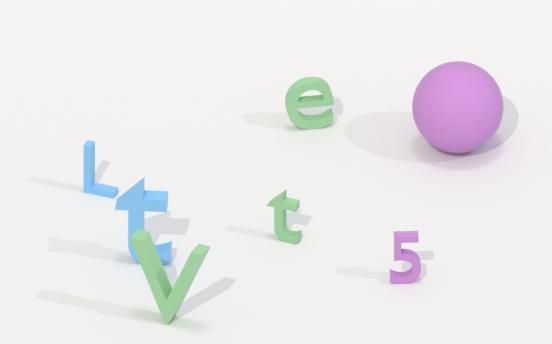5: (383, 228, 427, 286)
cau: (404, 62, 512, 154)
e: (283, 76, 340, 132)
h: (125, 228, 176, 268)
l: (79, 137, 127, 199)
t: (113, 177, 176, 262), (263, 187, 309, 247)
v: (126, 235, 217, 326)
